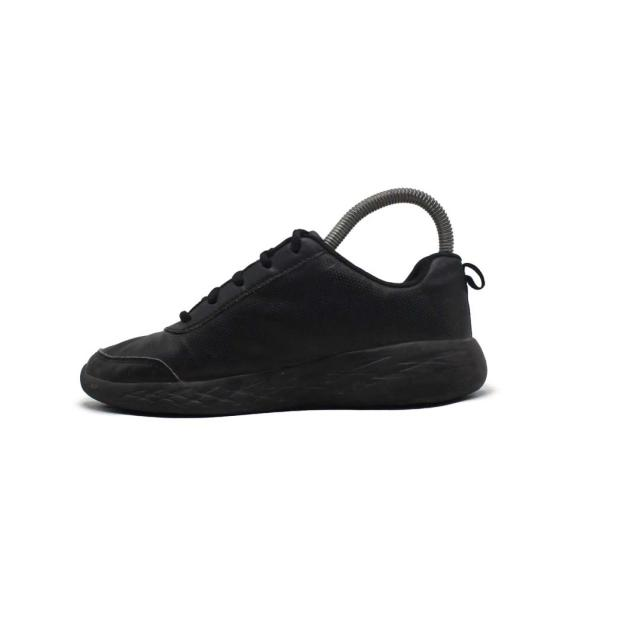heel: (448, 246, 489, 343)
midsole: (80, 340, 487, 418)
uppersole: (82, 225, 446, 362)
